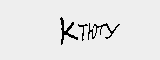К: (58, 16, 78, 45)
Т: (77, 19, 88, 44), (94, 19, 107, 37)
У: (103, 20, 120, 43)
Ю: (86, 19, 97, 43)
